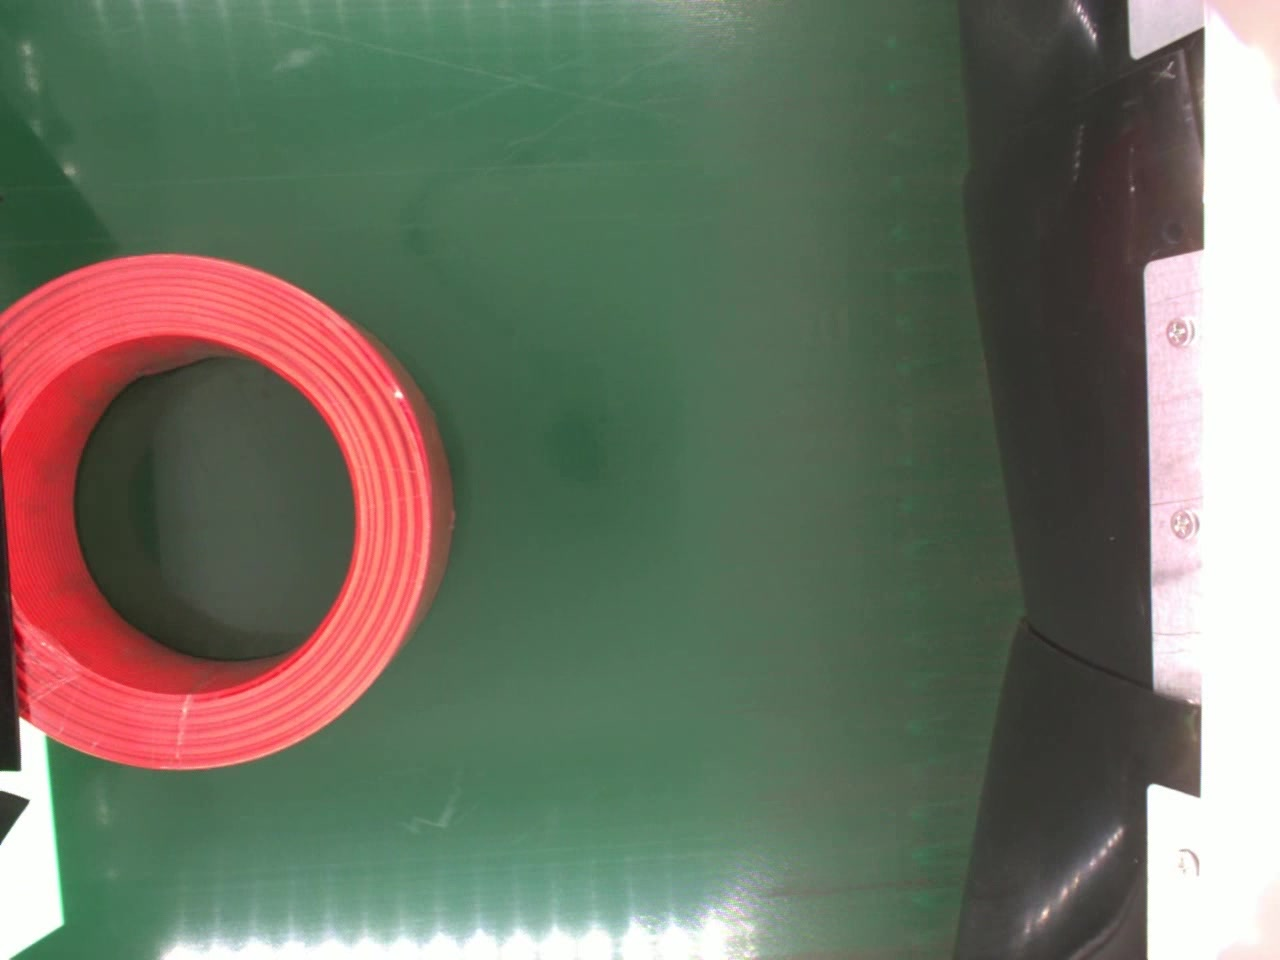red: (0, 251, 456, 774)
